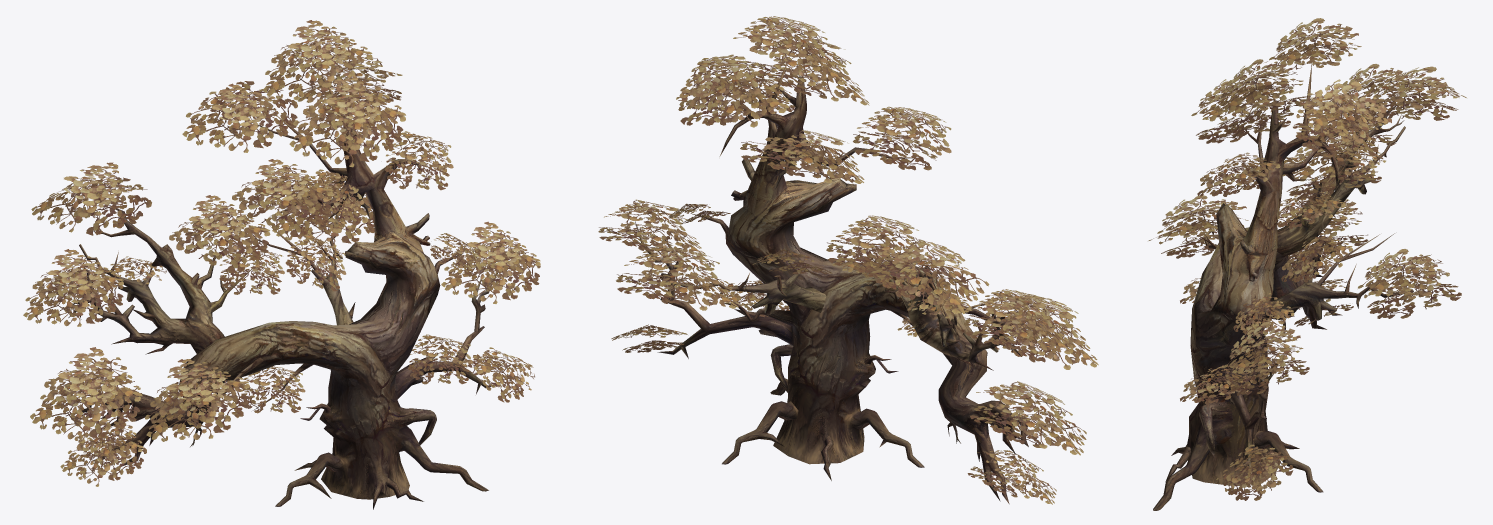
The model's file is Tree_4.FBX.
The picture shows the model from 3 angles, left to right: view 1: azimuth 30°, elevation 25°; view 2: azimuth 150°, elevation 25°; view 3: azimuth 270°, elevation 25°; orthographic projection. The views are drawn at different scales.
Parts seen in each view (by area): view 1: Tree_4L, Tree_4; view 2: Tree_4L, Tree_4; view 3: Tree_4L, Tree_4.
Boxes of the visible parts, box(x1,y1,x2,y2) form: Tree_4L: box(23, 20, 540, 486); Tree_4: box(67, 74, 500, 509); Tree_4L: box(598, 16, 1098, 504); Tree_4: box(633, 64, 1039, 504); Tree_4L: box(1148, 18, 1466, 500); Tree_4: box(1153, 63, 1413, 510).
Size of the model in its own units: 825 by 669 by 475.
